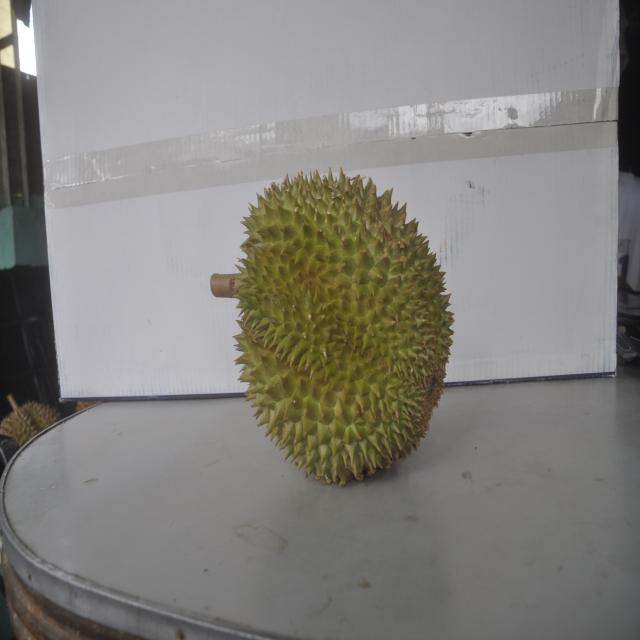mature: (226, 165, 440, 484), (1, 398, 62, 448)
